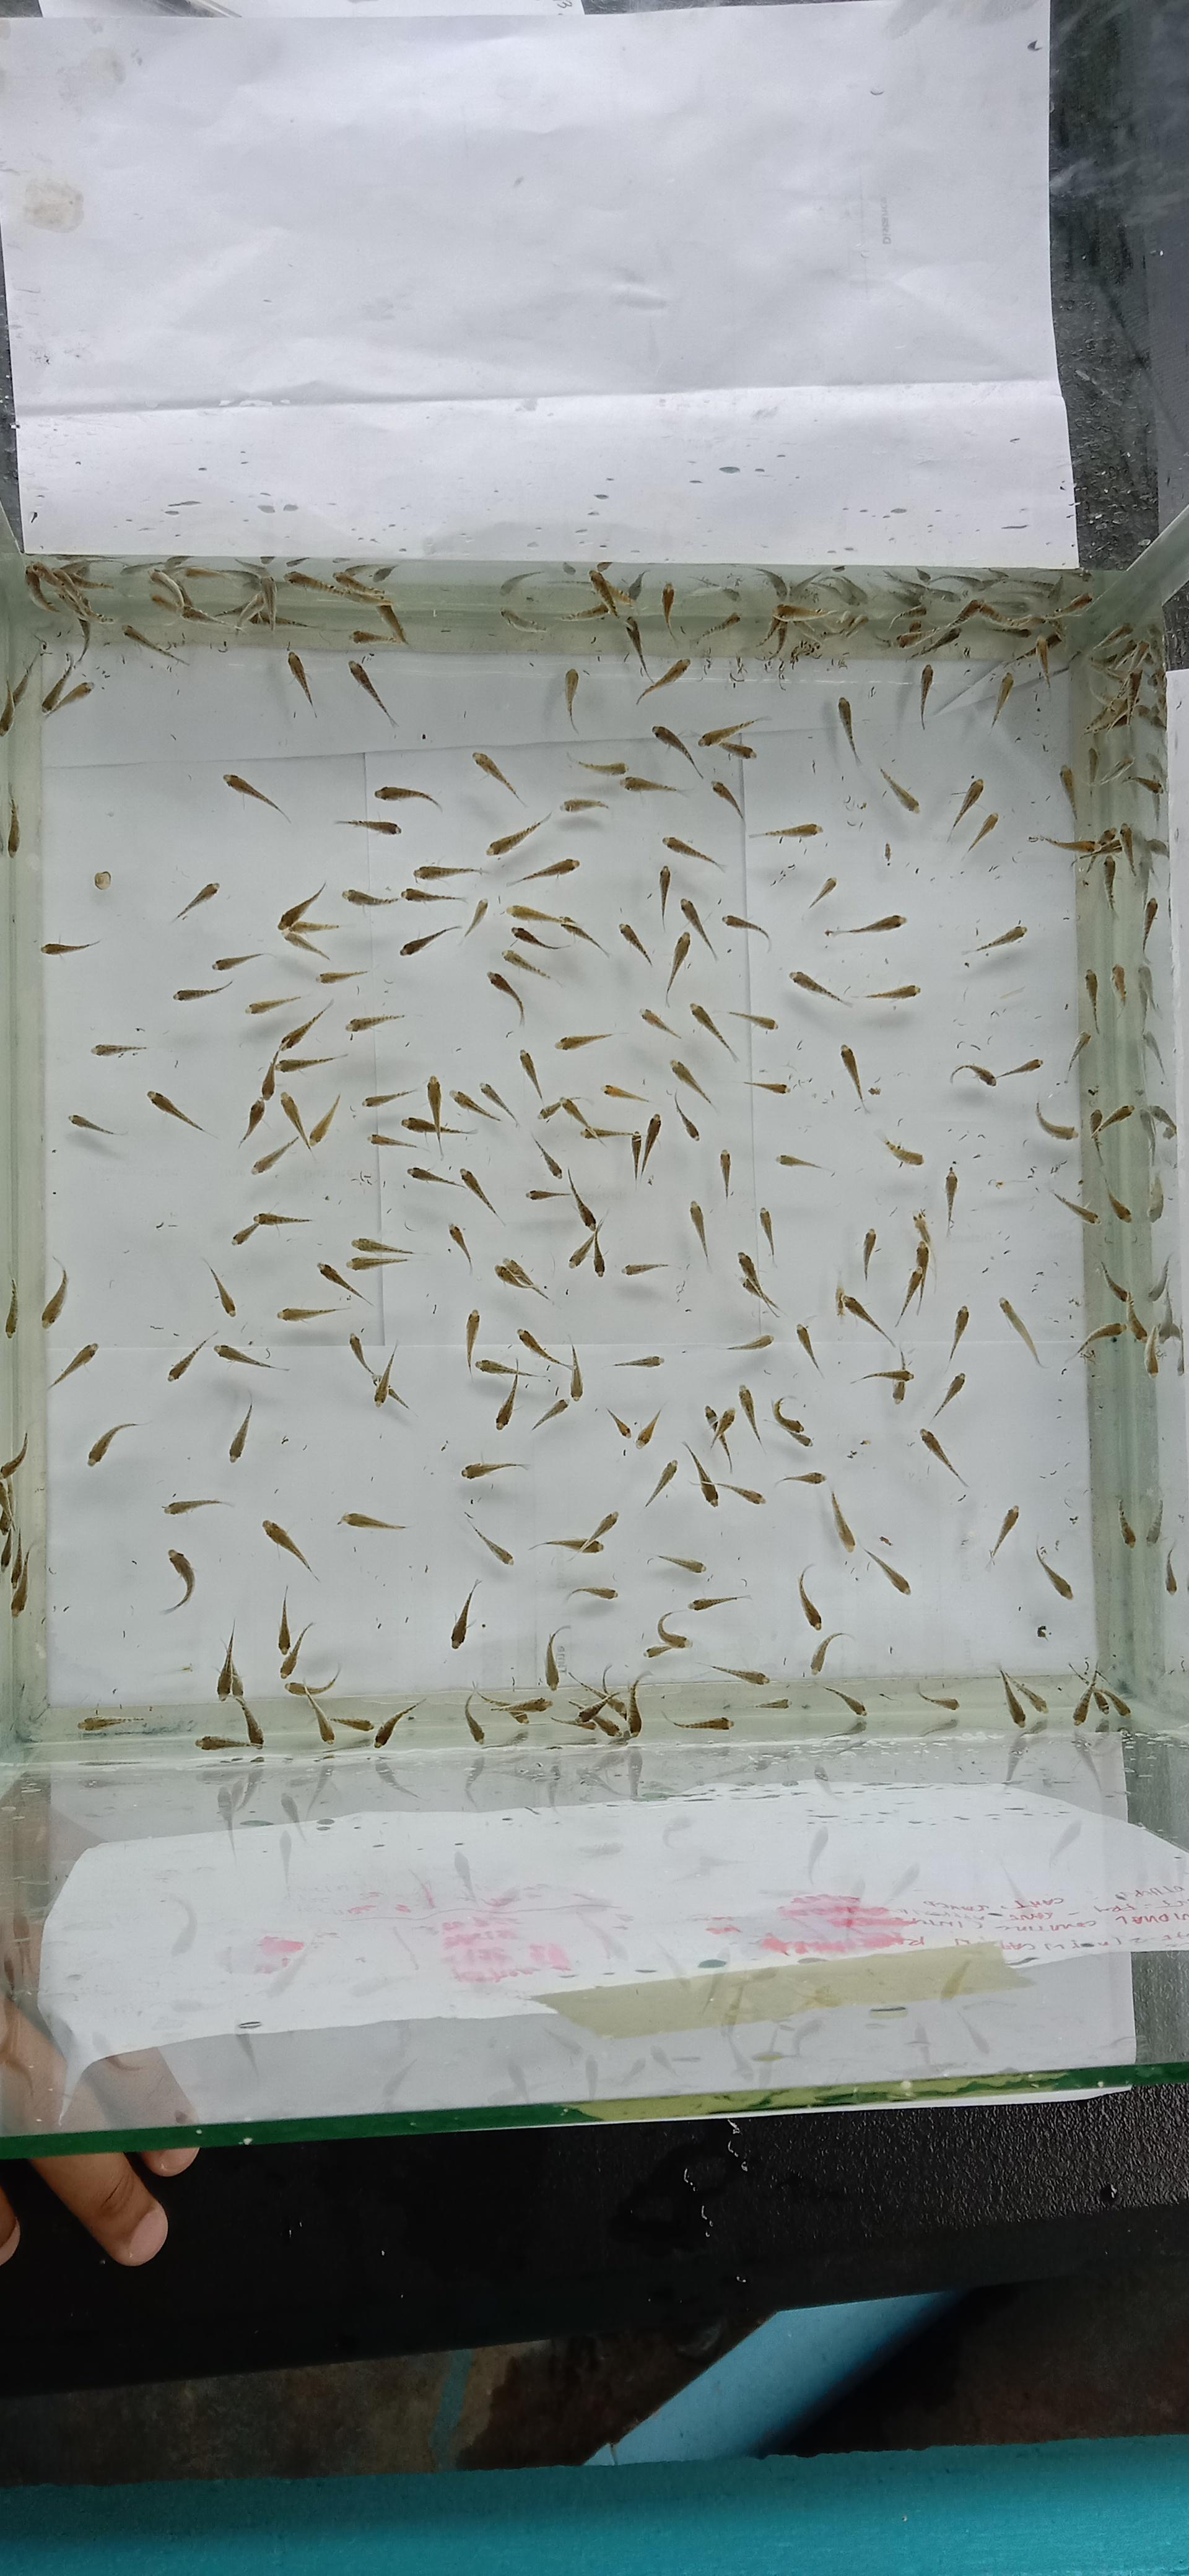fish: (251, 1092, 340, 1175), (553, 1667, 647, 1745), (261, 999, 332, 1097), (401, 1073, 473, 1158), (1035, 1032, 1090, 1142), (213, 1628, 264, 1748), (506, 902, 609, 956), (406, 1163, 501, 1221), (317, 1260, 386, 1339), (682, 1441, 764, 1506), (399, 899, 489, 958), (1090, 1102, 1133, 1221), (463, 1689, 550, 1746), (788, 968, 920, 1005), (517, 1326, 585, 1398), (348, 1332, 407, 1410), (762, 598, 841, 655), (1066, 1658, 1130, 1725), (473, 1359, 534, 1429), (284, 1667, 340, 1743), (897, 1211, 933, 1324), (195, 1695, 264, 1753), (1099, 1263, 1148, 1342), (530, 1510, 617, 1554), (238, 1051, 279, 1145), (836, 1286, 897, 1349), (261, 1520, 319, 1582), (1086, 670, 1141, 734), (558, 1097, 639, 1142), (348, 657, 397, 728), (599, 1672, 647, 1743), (223, 772, 289, 821), (934, 664, 995, 716), (997, 1296, 1041, 1367), (77, 1712, 192, 1738), (688, 1000, 737, 1061), (1094, 754, 1166, 795), (918, 1429, 967, 1488), (949, 1056, 1041, 1088), (527, 1184, 596, 1226), (854, 1355, 913, 1403), (122, 623, 187, 665), (567, 1207, 609, 1273), (821, 609, 867, 670), (734, 1250, 778, 1313), (1058, 762, 1099, 830), (486, 813, 550, 856), (232, 1211, 310, 1245), (585, 1129, 645, 1173), (652, 724, 701, 779), (146, 1089, 205, 1134), (637, 655, 690, 705), (281, 999, 333, 1048), (471, 749, 519, 802), (668, 1058, 716, 1111), (85, 1421, 140, 1467), (317, 1260, 371, 1306), (682, 1441, 719, 1506), (494, 1257, 550, 1301), (606, 1406, 662, 1451), (678, 899, 718, 959), (948, 775, 985, 838), (703, 1403, 736, 1474), (458, 1166, 501, 1221), (49, 1341, 97, 1388), (1010, 634, 1056, 683), (759, 601, 803, 652), (662, 835, 724, 871), (213, 1342, 289, 1372), (278, 882, 325, 928), (168, 1334, 213, 1382), (373, 1702, 419, 1750), (163, 1548, 195, 1613), (481, 1692, 550, 1723), (312, 1705, 374, 1740), (279, 1620, 315, 1679), (864, 1549, 910, 1595), (680, 1332, 772, 1355), (558, 915, 609, 956), (788, 969, 846, 1005), (663, 931, 691, 1005), (553, 1700, 616, 1733), (486, 969, 524, 1023), (450, 1580, 480, 1649), (770, 1396, 811, 1446), (567, 1666, 616, 1707), (698, 716, 759, 749), (1099, 1161, 1132, 1222), (1035, 1548, 1072, 1600), (278, 1091, 312, 1148), (1089, 621, 1133, 665), (399, 923, 458, 956), (251, 1135, 301, 1175), (401, 1114, 473, 1140), (995, 1666, 1026, 1727), (877, 767, 920, 812), (1067, 1661, 1097, 1725), (204, 1258, 236, 1316), (808, 1631, 849, 1677), (1077, 1321, 1123, 1362), (215, 1630, 241, 1700), (471, 1525, 514, 1567), (307, 1092, 342, 1145), (1086, 1107, 1105, 1199), (989, 1505, 1020, 1562), (516, 856, 580, 884), (350, 1235, 414, 1263), (542, 1626, 570, 1690), (1048, 1189, 1099, 1224), (1033, 1101, 1076, 1142), (478, 1081, 519, 1124), (1086, 695, 1132, 733), (839, 1043, 865, 1109), (636, 1114, 662, 1180), (642, 1459, 678, 1506), (46, 678, 94, 715), (824, 913, 905, 935), (286, 649, 315, 706), (558, 1097, 599, 1138), (838, 1290, 879, 1331), (176, 881, 218, 920), (976, 920, 1026, 953), (501, 946, 552, 979), (796, 1564, 821, 1631), (493, 1373, 522, 1429), (284, 1667, 340, 1697), (931, 1372, 966, 1419), (915, 623, 962, 657), (829, 1490, 856, 1552), (41, 1265, 67, 1327), (41, 659, 72, 711), (721, 913, 770, 946), (793, 1322, 823, 1377), (821, 1686, 867, 1720), (1030, 833, 1099, 856), (376, 785, 440, 810), (452, 1089, 499, 1122), (568, 1176, 598, 1229), (235, 1695, 264, 1748), (624, 1672, 647, 1740), (539, 1094, 588, 1125), (617, 920, 652, 964), (897, 1268, 925, 1322), (695, 611, 741, 644), (284, 927, 330, 959), (241, 613, 312, 634), (345, 1012, 406, 1037), (476, 1357, 537, 1382), (338, 1511, 407, 1533), (836, 697, 859, 761), (686, 1199, 709, 1263), (1090, 1102, 1133, 1137), (583, 1510, 617, 1552), (622, 616, 649, 672), (228, 1403, 253, 1462), (887, 1349, 913, 1403), (509, 923, 560, 951), (307, 1695, 337, 1743), (1120, 821, 1143, 882), (447, 1222, 473, 1275), (672, 1091, 700, 1140), (276, 1053, 345, 1073), (639, 1005, 680, 1038), (966, 812, 998, 853), (1094, 754, 1135, 787), (532, 1137, 563, 1180), (499, 606, 547, 634), (1063, 1032, 1090, 1079), (711, 1664, 769, 1687), (737, 1385, 760, 1442), (915, 1682, 959, 1712), (532, 1396, 570, 1431), (461, 1460, 527, 1480), (741, 1280, 780, 1313), (990, 670, 1013, 726), (882, 1135, 923, 1166), (378, 603, 409, 644), (751, 821, 821, 839), (414, 862, 478, 882), (774, 598, 824, 623), (652, 1554, 706, 1577), (163, 1498, 232, 1516), (948, 1306, 971, 1360), (563, 667, 581, 736), (655, 1612, 688, 1649), (711, 780, 742, 820), (401, 885, 463, 905), (1092, 1687, 1132, 1718), (1099, 1263, 1130, 1303), (379, 1199, 419, 1230), (506, 902, 563, 923), (1081, 966, 1099, 1033), (517, 1048, 542, 1097), (238, 1101, 266, 1143), (212, 596, 255, 624), (278, 1304, 343, 1322), (897, 619, 934, 651), (949, 1063, 997, 1088), (463, 1694, 486, 1745), (984, 616, 1035, 639), (174, 981, 233, 1000), (348, 1332, 374, 1377), (348, 1250, 407, 1270), (246, 994, 301, 1015), (854, 1368, 911, 1388), (1017, 1681, 1049, 1715), (463, 1308, 481, 1370), (590, 1709, 626, 1740), (839, 792, 870, 828), (563, 1585, 616, 1607), (276, 1587, 292, 1654), (555, 1032, 611, 1051), (864, 981, 920, 1000), (775, 1153, 831, 1173), (634, 1410, 662, 1449), (1058, 766, 1077, 821), (69, 1112, 117, 1135), (997, 1056, 1041, 1081), (726, 1009, 777, 1030), (407, 1165, 458, 1186), (335, 818, 401, 835), (755, 1207, 775, 1262), (363, 1088, 417, 1107), (585, 1124, 639, 1143), (567, 1232, 594, 1270), (760, 616, 788, 654), (668, 1715, 732, 1732), (601, 1081, 650, 1102), (918, 664, 934, 728), (41, 938, 99, 956), (212, 951, 264, 971), (575, 756, 627, 775), (463, 899, 489, 938), (808, 874, 838, 908), (573, 1700, 608, 1730), (476, 1682, 521, 1705), (690, 1595, 746, 1613), (833, 609, 869, 637), (373, 1380, 409, 1408), (552, 1710, 598, 1732), (343, 889, 397, 907), (1123, 670, 1141, 724), (195, 1735, 255, 1751), (232, 1216, 264, 1245), (655, 866, 672, 923), (1125, 1301, 1148, 1342), (604, 1408, 634, 1439), (1094, 825, 1123, 856), (861, 1227, 879, 1278), (425, 1074, 443, 1125), (1141, 897, 1159, 948), (622, 775, 678, 792), (1100, 854, 1117, 910), (1067, 1659, 1095, 1692), (77, 1715, 123, 1735), (259, 1051, 279, 1097), (943, 1165, 957, 1226), (319, 968, 368, 986), (568, 1345, 585, 1400), (92, 1042, 146, 1058), (723, 1483, 764, 1505), (918, 1718, 959, 1740), (287, 918, 340, 935), (788, 634, 821, 660), (726, 1332, 774, 1350), (401, 1115, 448, 1134), (1035, 634, 1053, 682), (627, 1130, 645, 1178), (826, 1718, 869, 1738), (368, 1132, 419, 1148), (565, 603, 611, 621), (662, 619, 690, 649), (624, 1699, 644, 1740), (870, 631, 908, 652), (660, 582, 677, 629), (562, 797, 609, 813), (757, 654, 785, 682), (911, 1209, 931, 1249), (489, 1728, 529, 1748), (598, 1664, 617, 1704), (350, 628, 393, 646), (1130, 772, 1166, 793), (333, 1715, 374, 1733), (537, 1096, 565, 1122), (613, 1354, 662, 1368), (718, 1148, 732, 1198), (775, 1470, 824, 1485), (1107, 1193, 1132, 1222), (149, 1663, 194, 1679), (1110, 963, 1127, 1005), (1141, 833, 1169, 858), (742, 1079, 788, 1094), (888, 1373, 911, 1403), (279, 1648, 302, 1677), (1071, 1690, 1090, 1725), (698, 1475, 719, 1506), (527, 1186, 572, 1201), (624, 1260, 668, 1275), (770, 864, 796, 889), (348, 1168, 379, 1188), (371, 1373, 391, 1405), (642, 1643, 683, 1658), (1092, 1687, 1113, 1715), (728, 654, 746, 687), (591, 1235, 606, 1275), (834, 1285, 851, 1319), (724, 741, 755, 759), (844, 1439, 870, 1460), (954, 1035, 987, 1051), (1044, 1160, 1074, 1178), (146, 1321, 182, 1336), (1089, 1106, 1105, 1137), (913, 1240, 930, 1270), (703, 1405, 718, 1436), (755, 1697, 790, 1710), (153, 1217, 181, 1232), (94, 869, 112, 890), (880, 841, 893, 864), (875, 1533, 895, 1546), (872, 1690, 892, 1700)
